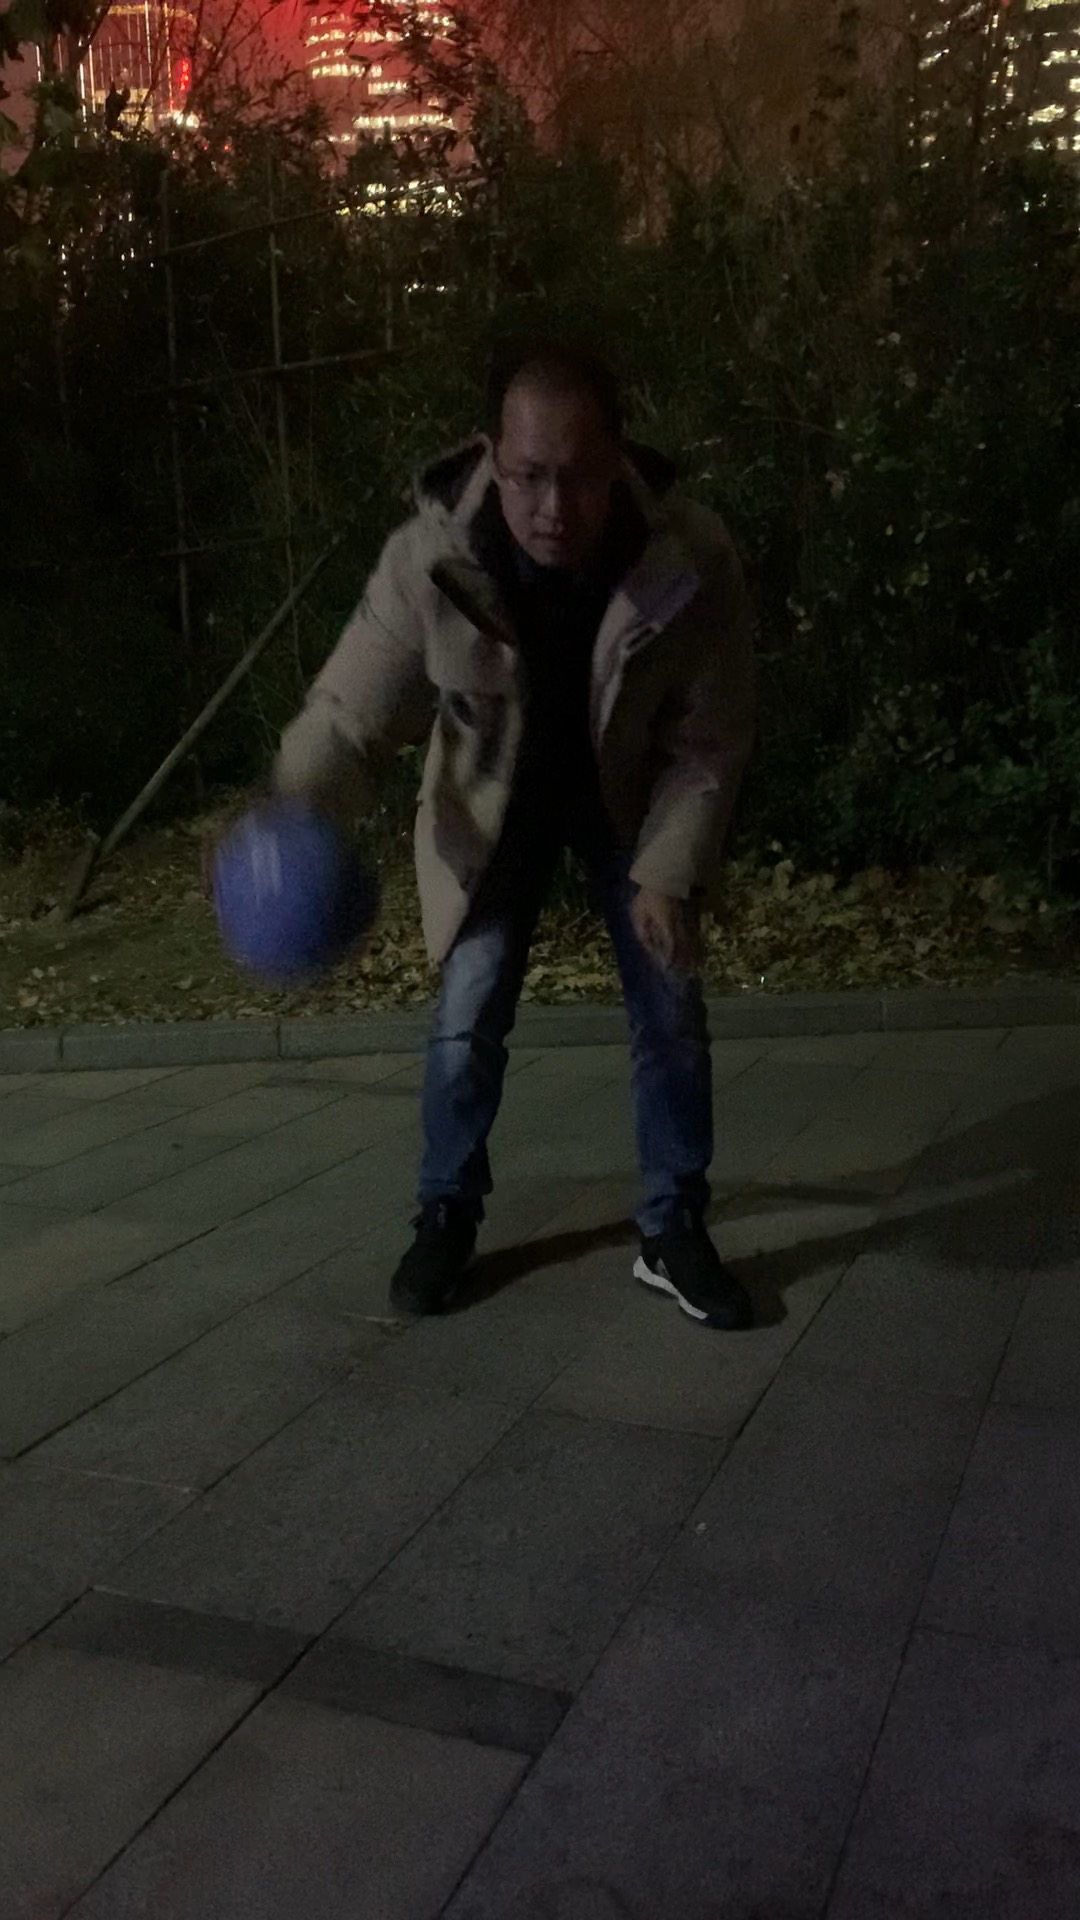ball: (208, 802, 381, 986)
